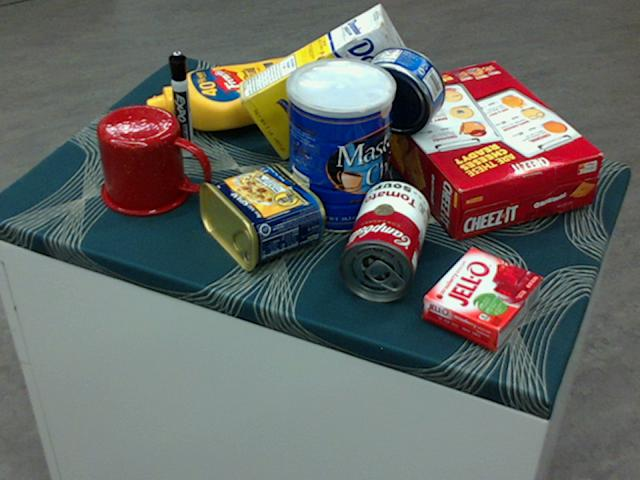cracker_box: (366, 60, 600, 240)
gelatin_box: (422, 247, 541, 349)
large_marker: (166, 51, 194, 157)
master_chef_can: (284, 59, 394, 235)
mug: (97, 104, 208, 216)
mustard_bottle: (144, 55, 318, 130)
potted_meat_can: (196, 163, 324, 271)
sugar_box: (235, 4, 422, 161)
tomato_soup_can: (336, 179, 430, 300)
tuna_fish_can: (356, 44, 445, 133)
